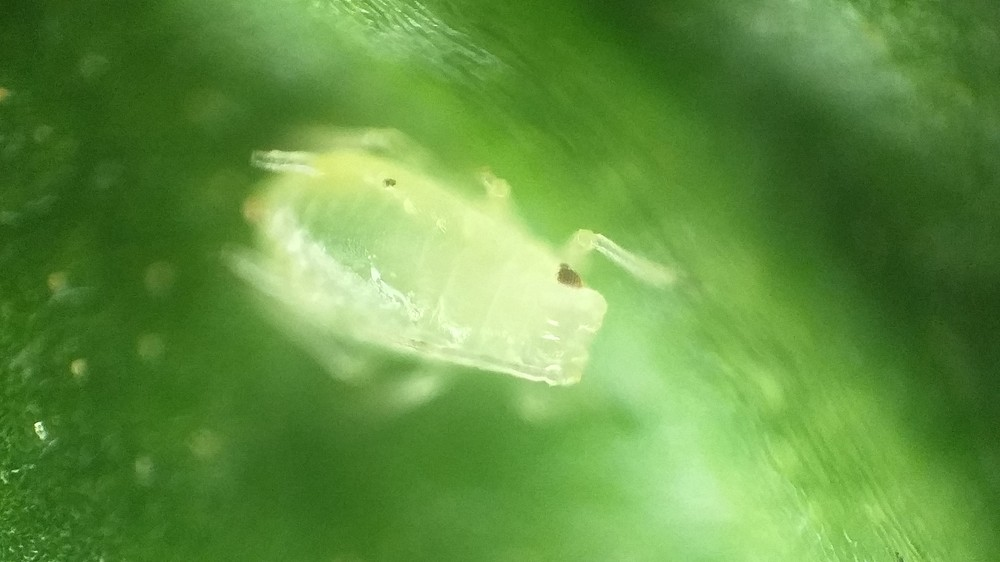Pulgon: (198, 120, 696, 451)
